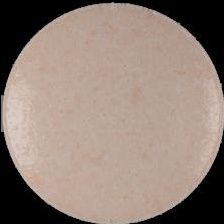0378-5123: (0, 0, 224, 224)
